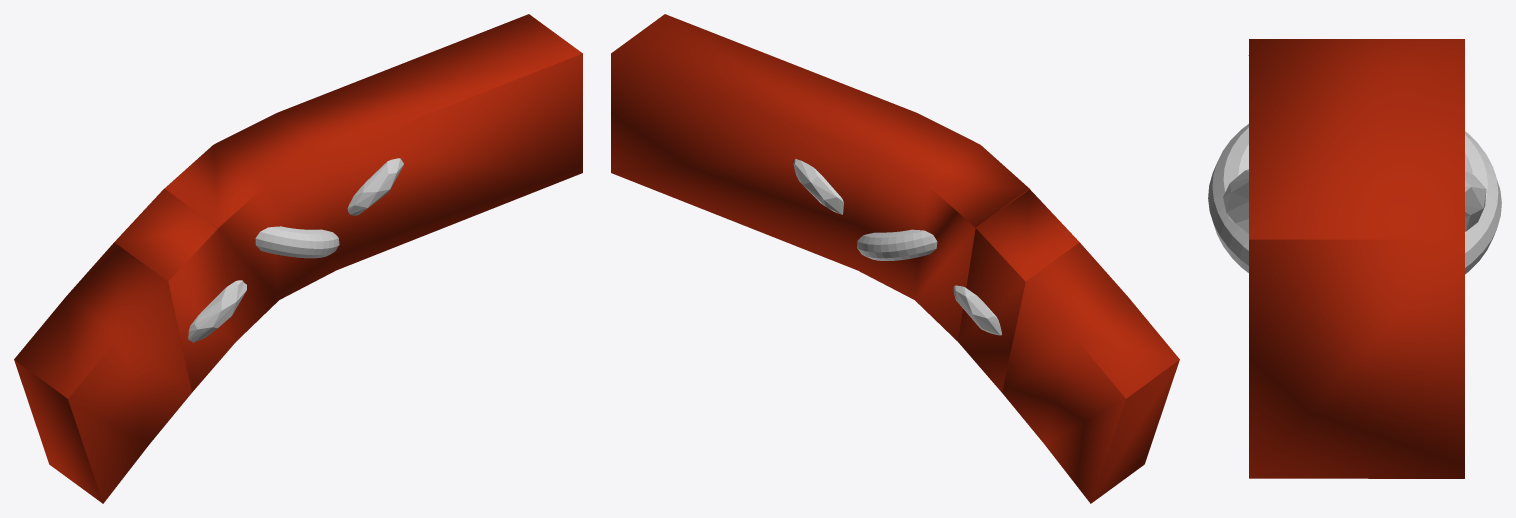
Rendered from Pristine_crest.obj.
3 renders of one model, left to right at view 1: azimuth 30°, elevation 25°; view 2: azimuth 150°, elevation 25°; view 3: azimuth 270°, elevation 25°, orthographic. The views are drawn at different scales.
Visible parts, largest first — view 1: Torus.002; view 2: Torus.002; view 3: Torus.002.
Part boxes in pixels (x1,y1,x2,y2): Torus.002: [14, 14, 582, 503]; Torus.002: [611, 14, 1179, 503]; Torus.002: [1208, 39, 1501, 478].
Bounding box in the file's own units: 6.2 × 3.83 × 1.53.
